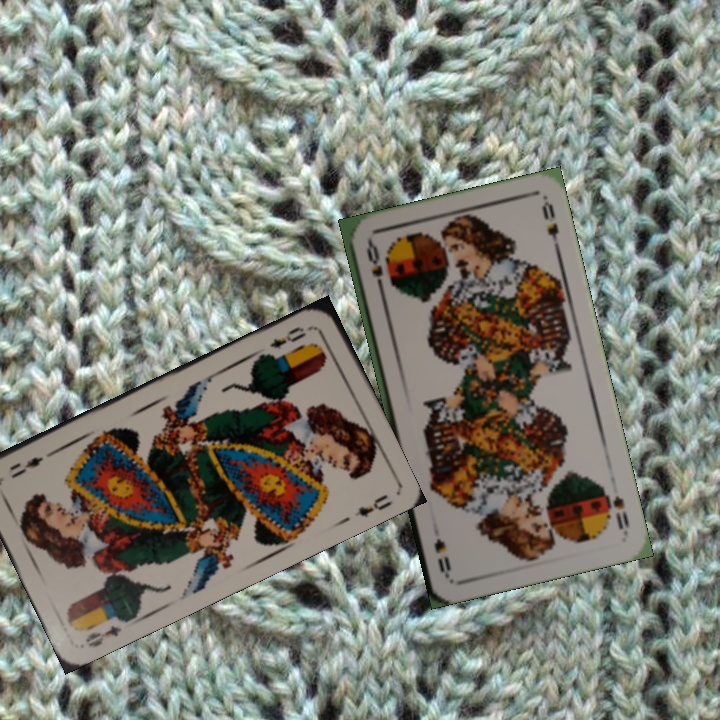EO: (265, 322, 310, 352), (81, 621, 124, 650)
SO: (362, 237, 387, 296), (602, 490, 632, 536)
